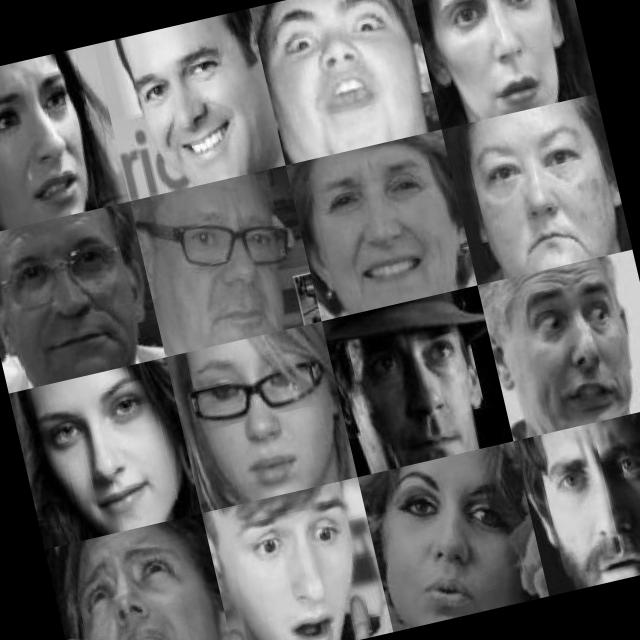angry: (268, 0, 424, 144), (498, 290, 640, 423)
fear: (226, 482, 389, 640)
happy: (306, 151, 466, 309), (0, 218, 152, 372), (122, 31, 269, 188), (38, 381, 180, 523)
neutral: (376, 450, 542, 625), (173, 184, 301, 332), (539, 429, 640, 588), (438, 0, 567, 114)
sad: (472, 118, 628, 282), (190, 337, 342, 490), (349, 308, 496, 456), (0, 73, 111, 225), (76, 531, 221, 640)
